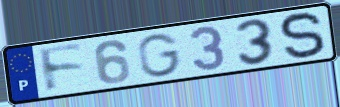3: (233, 17, 277, 67), (187, 24, 227, 74)
6: (92, 37, 131, 85)
F: (36, 42, 87, 95)
G: (135, 32, 183, 80)
S: (277, 10, 328, 62)
